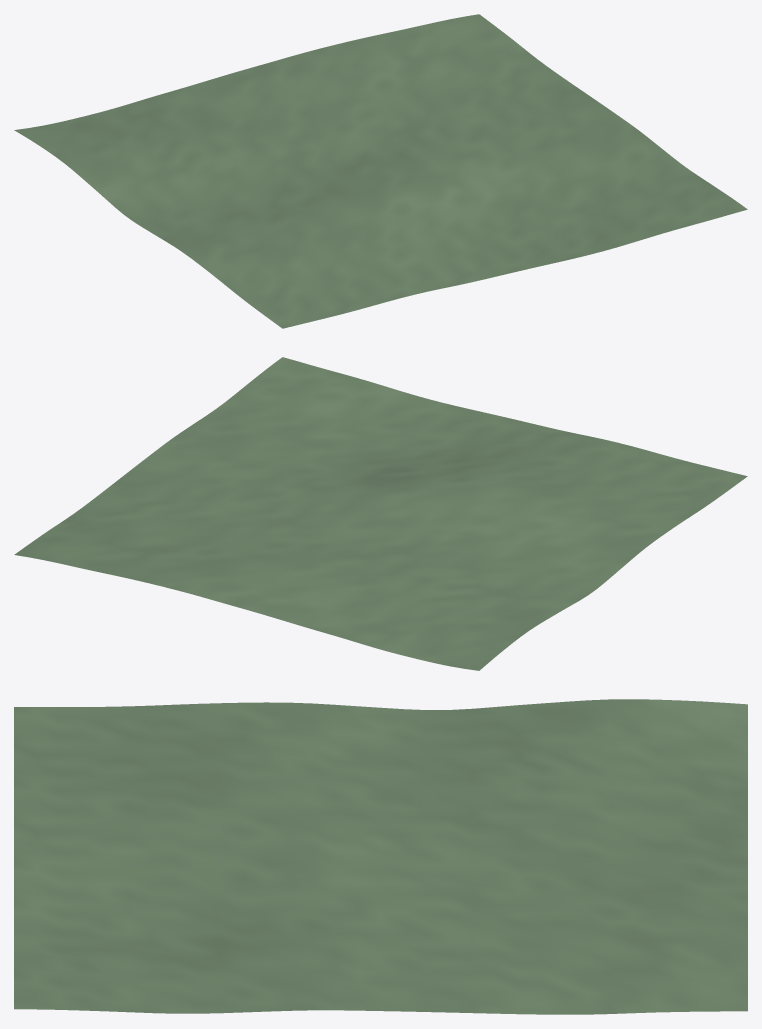
3 views of the same model, one above another, from view 1: azimuth 30°, elevation 25°; view 2: azimuth 150°, elevation 25°; view 3: azimuth 270°, elevation 25° (orthographic). The views are drawn at different scales.
Parts seen in each view (by area): view 1: Terrain-col; view 2: Terrain-col; view 3: Terrain-col.
Part boxes in pixels (left/top/right/bottom): Terrain-col: left=14, top=14, right=747, bottom=328; Terrain-col: left=14, top=357, right=747, bottom=670; Terrain-col: left=14, top=699, right=747, bottom=1014.
Size of the model in its own units: 256 by 6.64 by 256.
